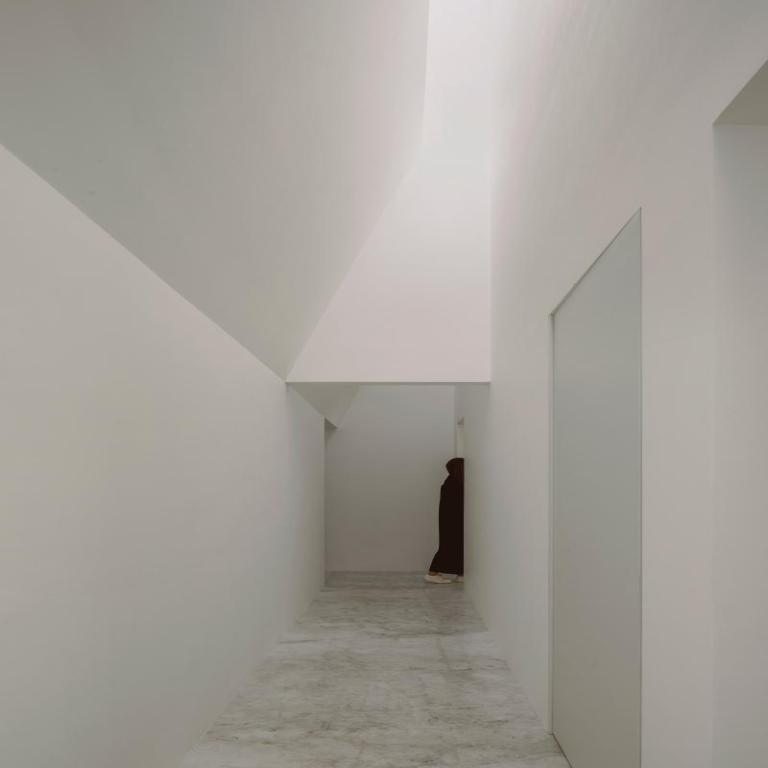white-walls: (26, 21, 707, 738)
